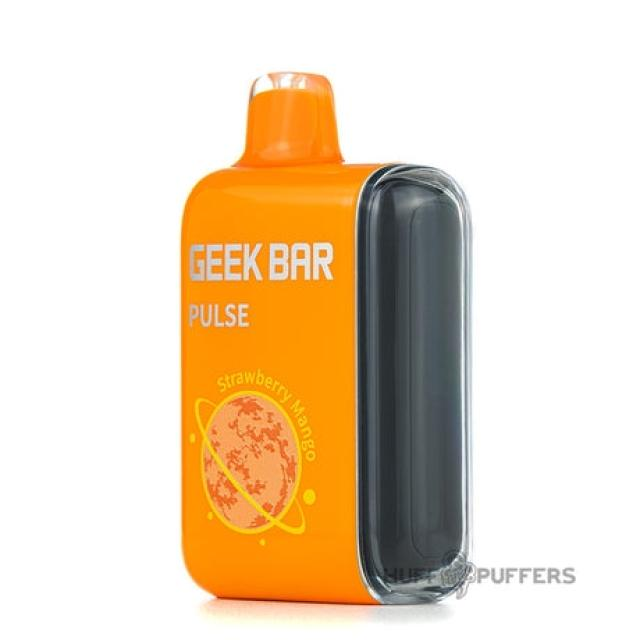Vape-images: (178, 70, 473, 605)
